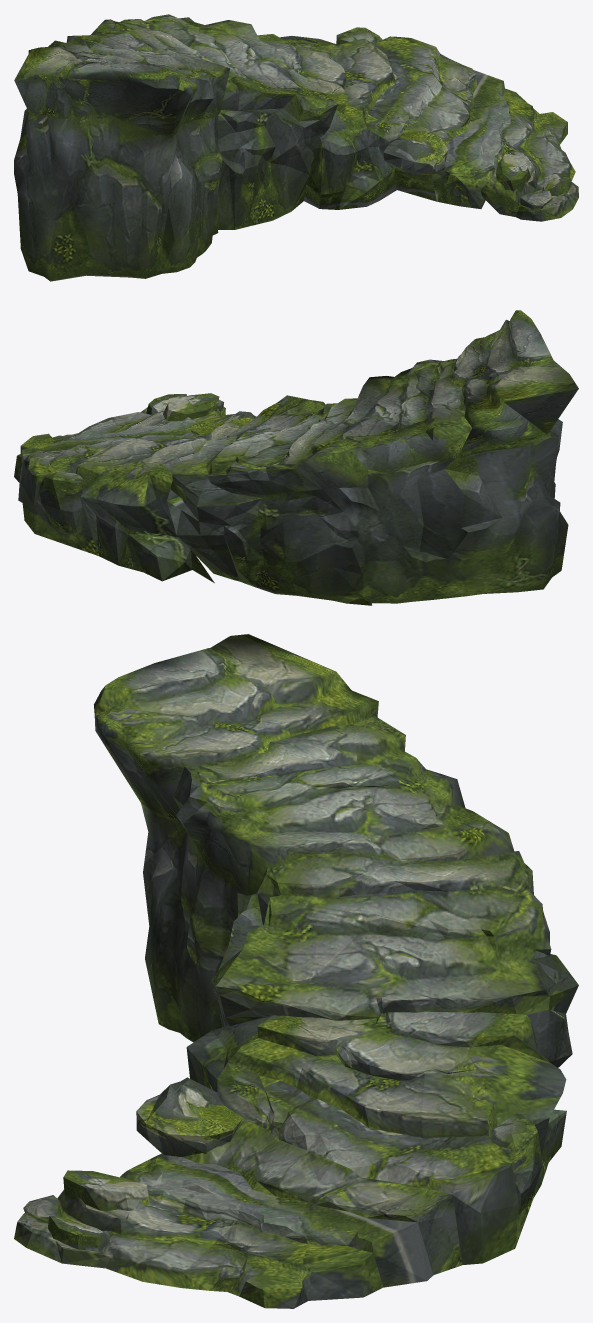
The model's file is 4009_Item_shitou_4.FBX.
The picture shows the model from 3 angles, top to bottom: view 1: azimuth 30°, elevation 25°; view 2: azimuth 150°, elevation 25°; view 3: azimuth 270°, elevation 25°; orthographic projection. The views are drawn at different scales.
Visible parts, largest first — view 1: 4009_Item_shitou_4; view 2: 4009_Item_shitou_4; view 3: 4009_Item_shitou_4.
Boxes of the visible parts, bbox=[...] form: 4009_Item_shitou_4: bbox=[14, 14, 578, 281]; 4009_Item_shitou_4: bbox=[14, 310, 578, 605]; 4009_Item_shitou_4: bbox=[14, 634, 578, 1308].
Bounding box in the file's own units: 3941 × 1499 × 2384.
